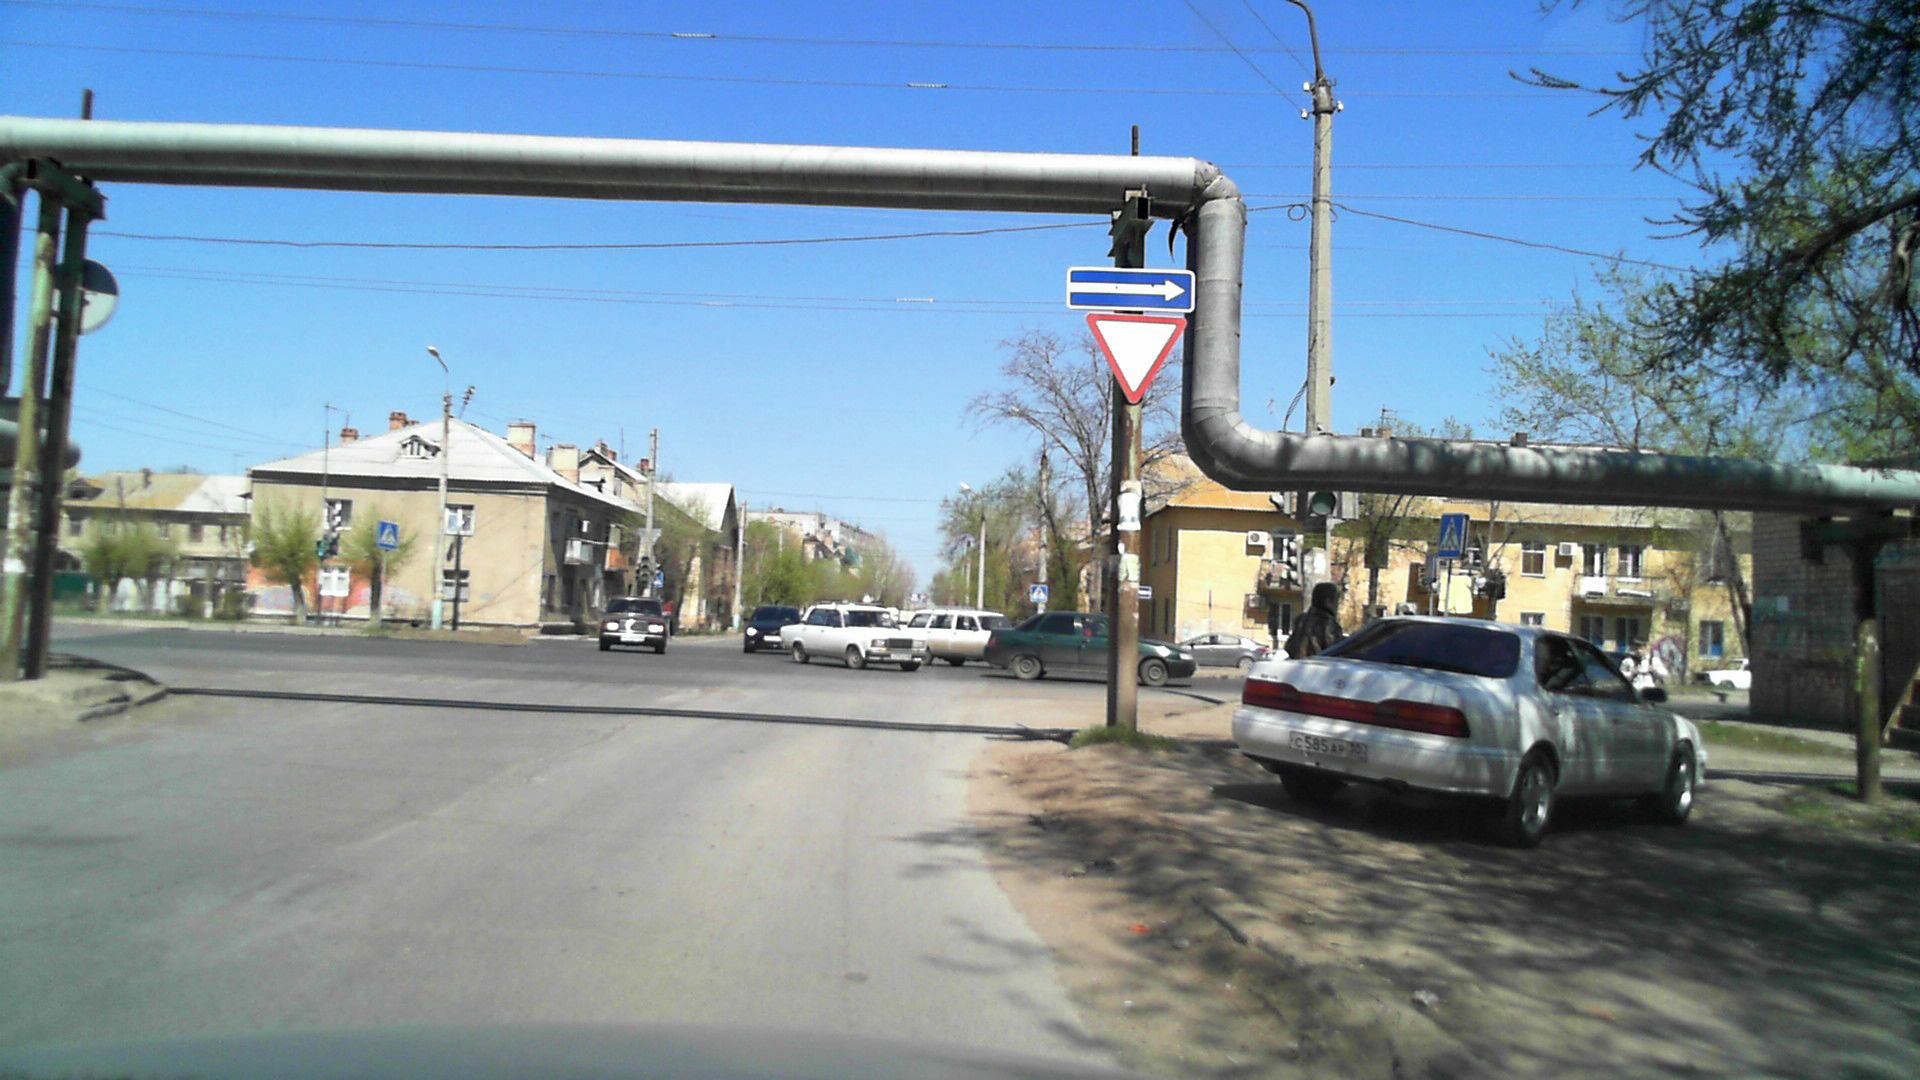One-Way Traffic: (1067, 266, 1195, 313)
